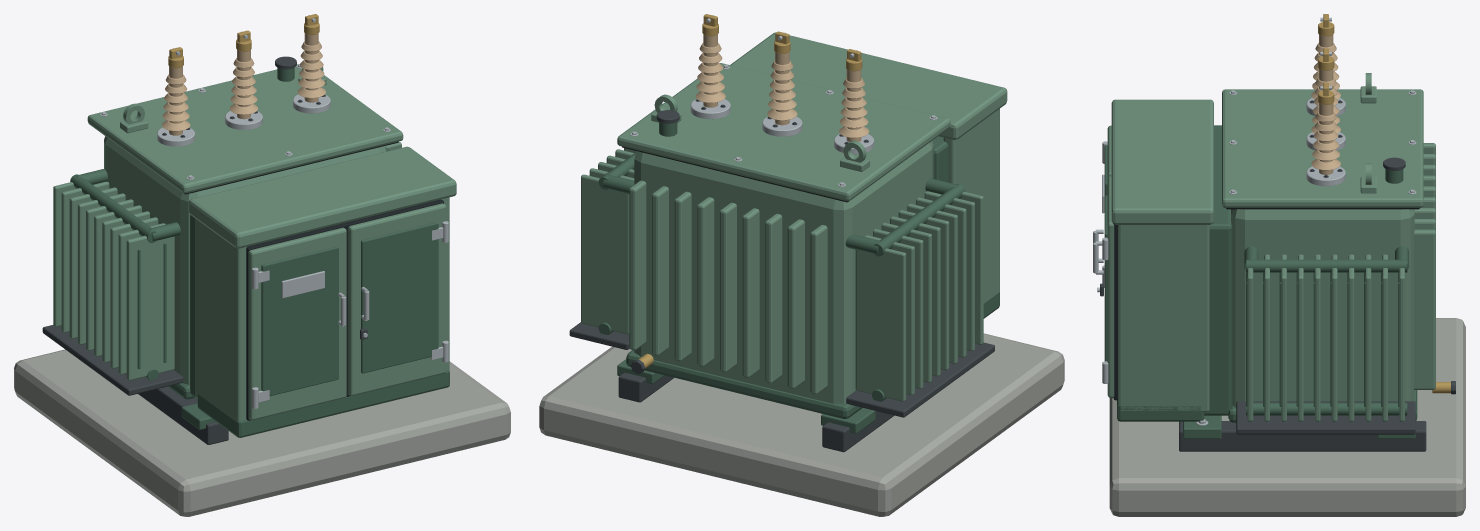
The model's file is city-pad-mounted-transformer.glb.
3 renders of one model, left to right at view 1: azimuth 30°, elevation 25°; view 2: azimuth 150°, elevation 25°; view 3: azimuth 270°, elevation 25°, orthographic. The views are drawn at different scales.
Visible parts, largest first — view 1: Assembly | Utility sage enamel, Assembly | Neutral cast concrete, Assembly | Deep utility green enamel, Assembly | Cast structural iron, Assembly | Glazed taupe ceramic, Assembly | Satin galvanized steel, Assembly | Graphite elastomer, Assembly | Terminal brass; view 2: Assembly | Utility sage enamel, Assembly | Neutral cast concrete, Assembly | Deep utility green enamel, Assembly | Cast structural iron, Assembly | Glazed taupe ceramic, Assembly | Satin galvanized steel, Assembly | Terminal brass; view 3: Assembly | Utility sage enamel, Assembly | Neutral cast concrete, Assembly | Deep utility green enamel, Assembly | Cast structural iron, Assembly | Glazed taupe ceramic, Assembly | Satin galvanized steel, Assembly | Graphite elastomer, Assembly | Terminal brass.
Part boxes in pixels (left/top/right/bottom): Assembly | Utility sage enamel: left=53, top=64, right=456, bottom=422; Assembly | Neutral cast concrete: left=14, top=349, right=510, bottom=516; Assembly | Deep utility green enamel: left=70, top=67, right=449, bottom=437; Assembly | Cast structural iron: left=42, top=56, right=367, bottom=444; Assembly | Glazed taupe ceramic: left=162, top=33, right=325, bottom=135; Assembly | Satin galvanized steel: left=100, top=15, right=448, bottom=408; Assembly | Graphite elastomer: left=184, top=141, right=443, bottom=420; Assembly | Terminal brass: left=168, top=14, right=319, bottom=68; Assembly | Utility sage enamel: left=581, top=32, right=1007, bottom=403; Assembly | Neutral cast concrete: left=539, top=333, right=1064, bottom=516; Assembly | Deep utility green enamel: left=598, top=121, right=999, bottom=433; Assembly | Cast structural iron: left=569, top=99, right=994, bottom=452; Assembly | Glazed taupe ceramic: left=695, top=34, right=869, bottom=141; Assembly | Satin galvanized steel: left=630, top=15, right=937, bottom=186; Assembly | Terminal brass: left=638, top=14, right=862, bottom=368; Assembly | Utility sage enamel: left=1107, top=73, right=1435, bottom=421; Assembly | Neutral cast concrete: left=1109, top=318, right=1465, bottom=516; Assembly | Deep utility green enamel: left=1104, top=125, right=1417, bottom=438; Assembly | Cast structural iron: left=1100, top=100, right=1455, bottom=451; Assembly | Glazed taupe ceramic: left=1311, top=34, right=1340, bottom=174; Assembly | Satin galvanized steel: left=1093, top=17, right=1416, bottom=425; Assembly | Graphite elastomer: left=1113, top=208, right=1419, bottom=400; Assembly | Terminal brass: left=1318, top=14, right=1450, bottom=393.
Bounding box in the file's own units: 1.86 × 2 × 1.75.
